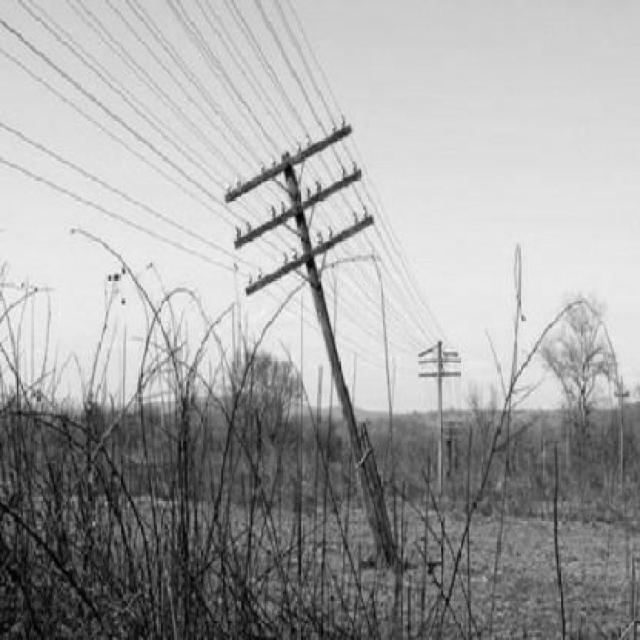Pole: (225, 125, 401, 569)
